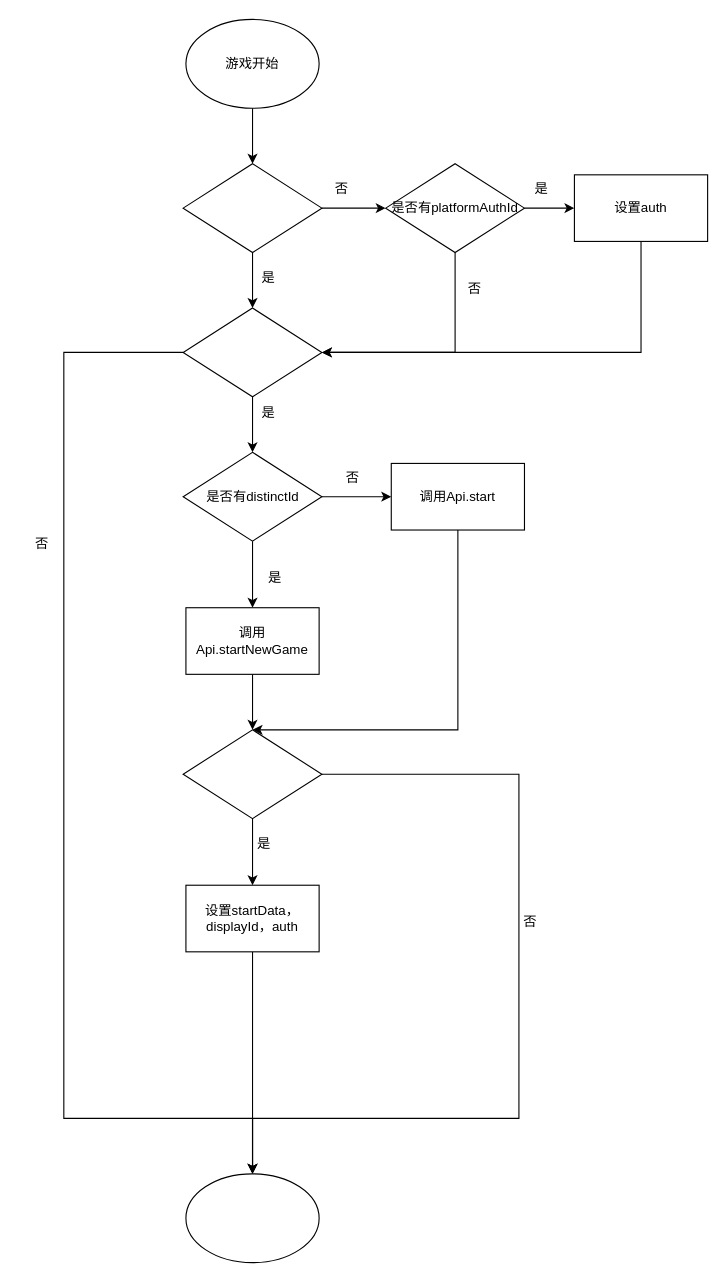
The diagram is 727 pixels wide and 1282 high, and some of its shapes have lost their labels. Here are the shapes that lost their labels. From the top down, the centre of each, then its label:
At (x=252, y=208): "是否有auth".
At (x=252, y=352): "是否有auth，或有distinctId".
At (x=252, y=774): "接口调用是否成功".
At (x=252, y=1218): "结束".
